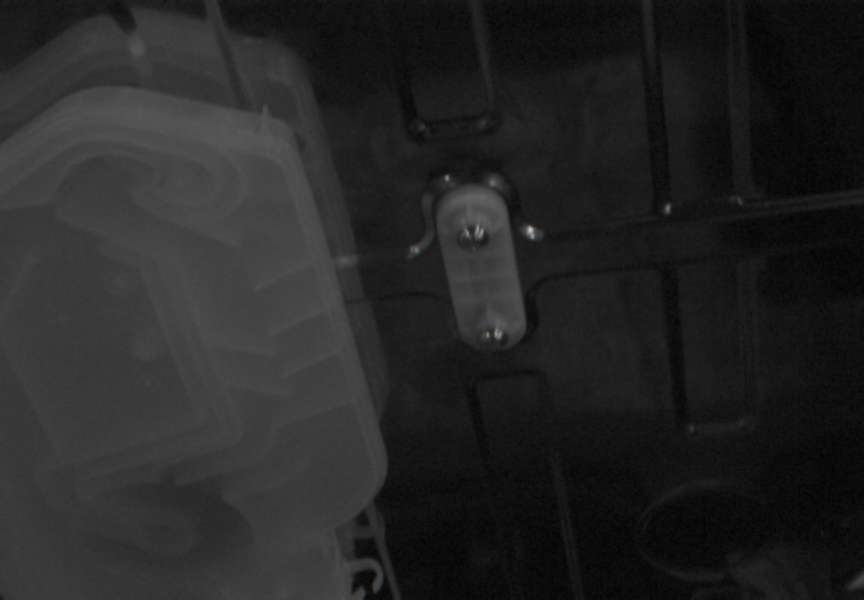screw: (457, 224, 490, 252), (478, 327, 509, 349)
